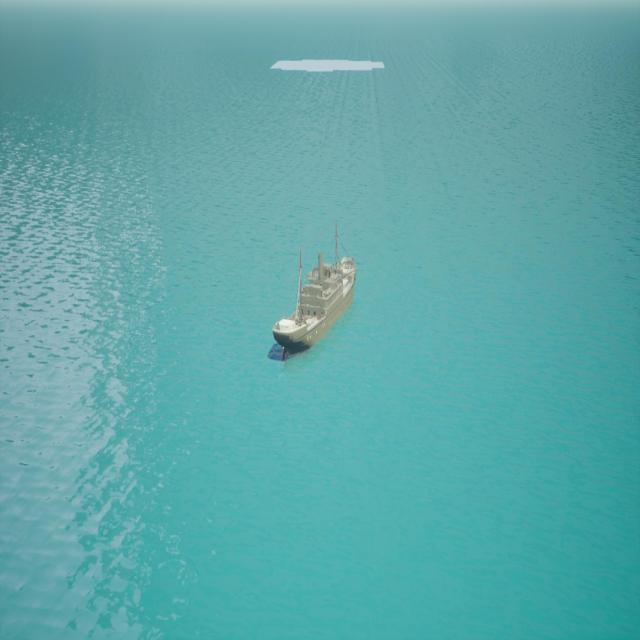fishing ship: (271, 222, 355, 361)
